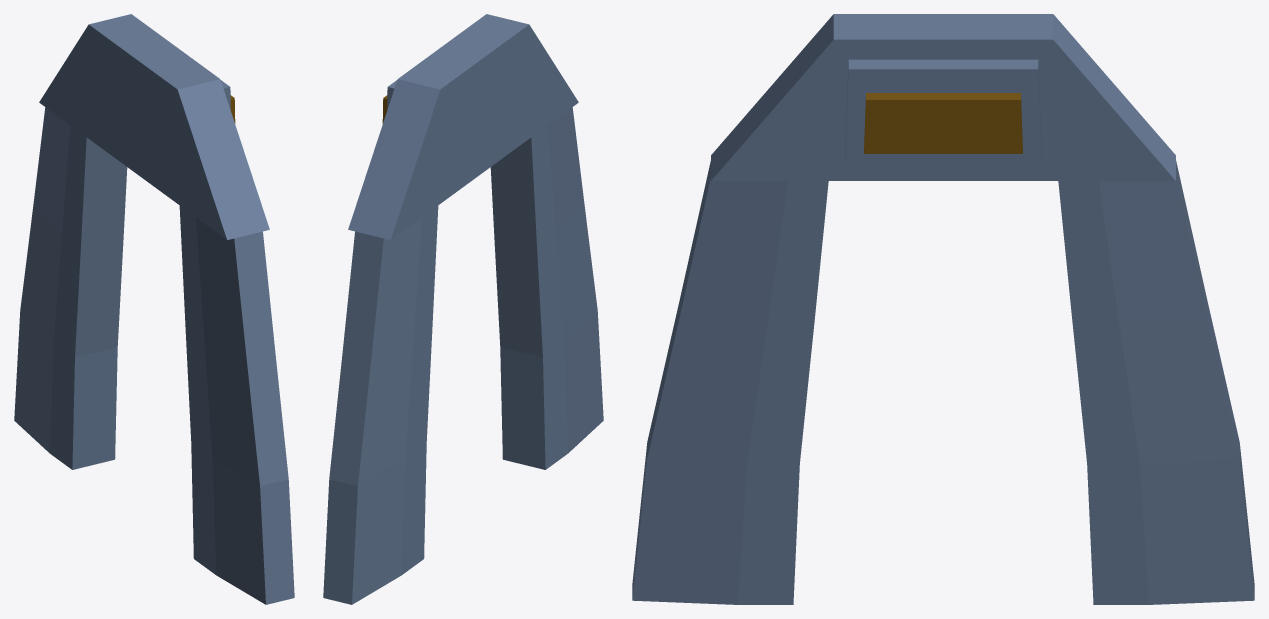
3 views of the same model, side by side, from view 1: azimuth 30°, elevation 25°; view 2: azimuth 150°, elevation 25°; view 3: azimuth 270°, elevation 25° (orthographic). The views are drawn at different scales.
Visible parts, largest first — view 1: 立方体; view 2: 立方体; view 3: 立方体.
Boxes of the visible parts, x1,y1,x2,y2 form: 立方体: (14,14,294,604); 立方体: (323,14,603,604); 立方体: (632,14,1254,604).
Size of the model in its own units: 19.84 by 123 by 123.
